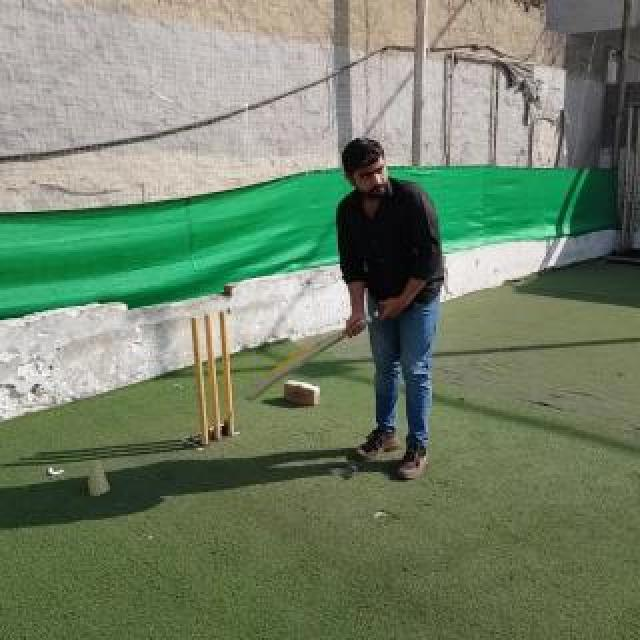bat: (246, 308, 388, 400)
